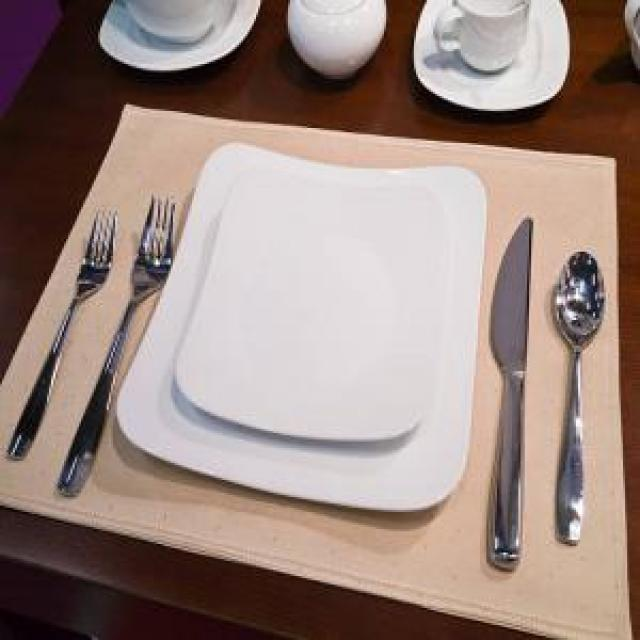knife: (482, 213, 538, 573)
